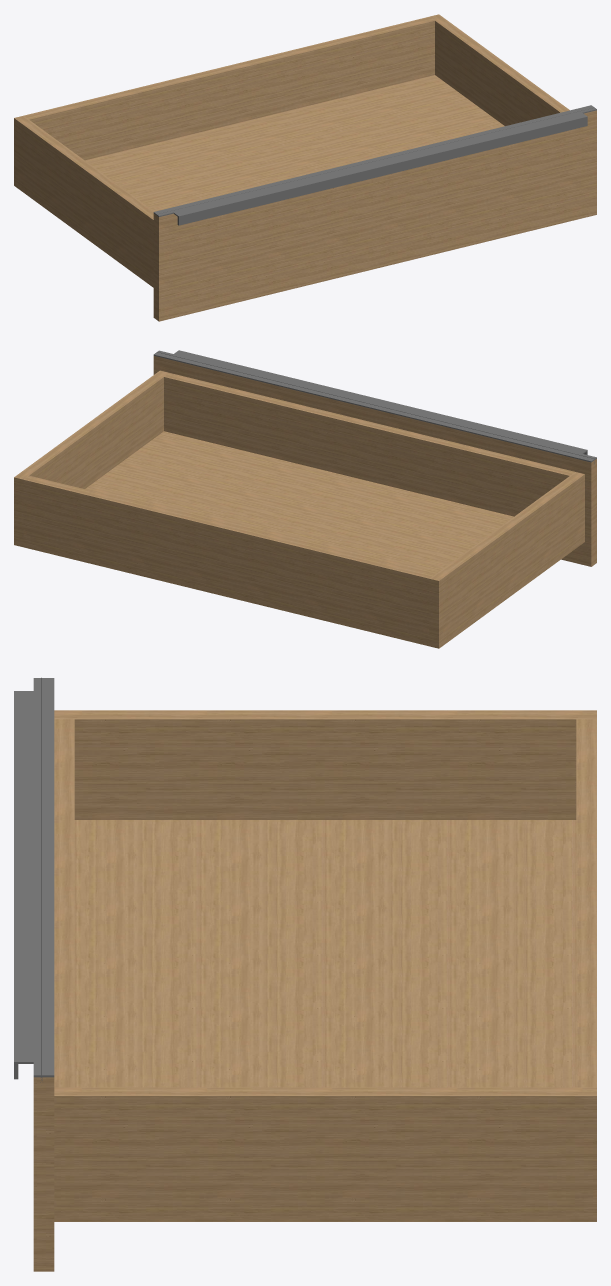
File: drawer.glb
The picture shows the model from 3 angles, top to bottom: view 1: azimuth 30°, elevation 25°; view 2: azimuth 150°, elevation 25°; view 3: azimuth 270°, elevation 25°; orthographic projection. The views are drawn at different scales.
Parts seen in each view (by area): view 1: Geom3D.005; view 2: Geom3D.005; view 3: Geom3D.005.
Part boxes in pixels (x1,y1,x2,y2): Geom3D.005: (14, 14, 596, 321); Geom3D.005: (14, 350, 596, 648); Geom3D.005: (14, 677, 596, 1271).
Size of the model in its own units: 0.866 by 0.2 by 0.537.
Materials: 2 (1 with a texture image).
